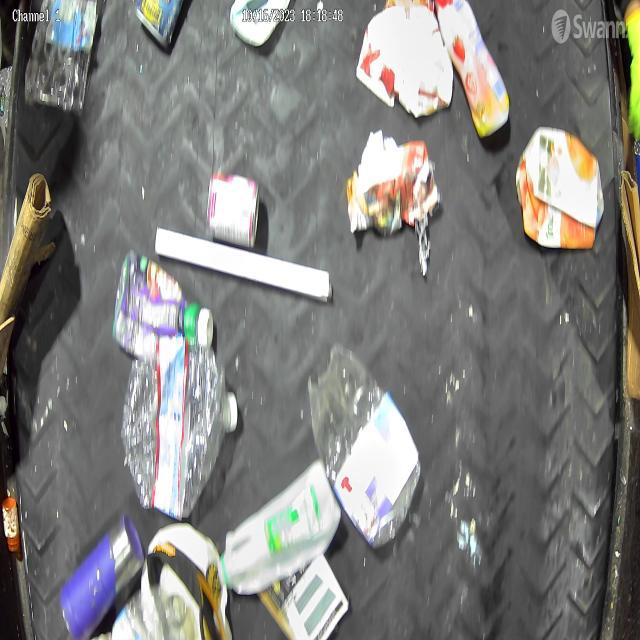can: (59, 512, 146, 640), (205, 168, 261, 246), (134, 0, 182, 48)
milk_jug: (218, 461, 342, 598)
non_white_jug: (515, 124, 605, 253)
plastic_bottle: (308, 340, 421, 553), (120, 342, 238, 522)
